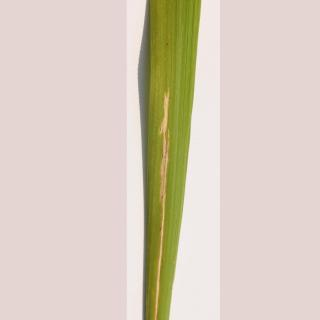Hawar-Daun: (144, 94, 176, 320)
